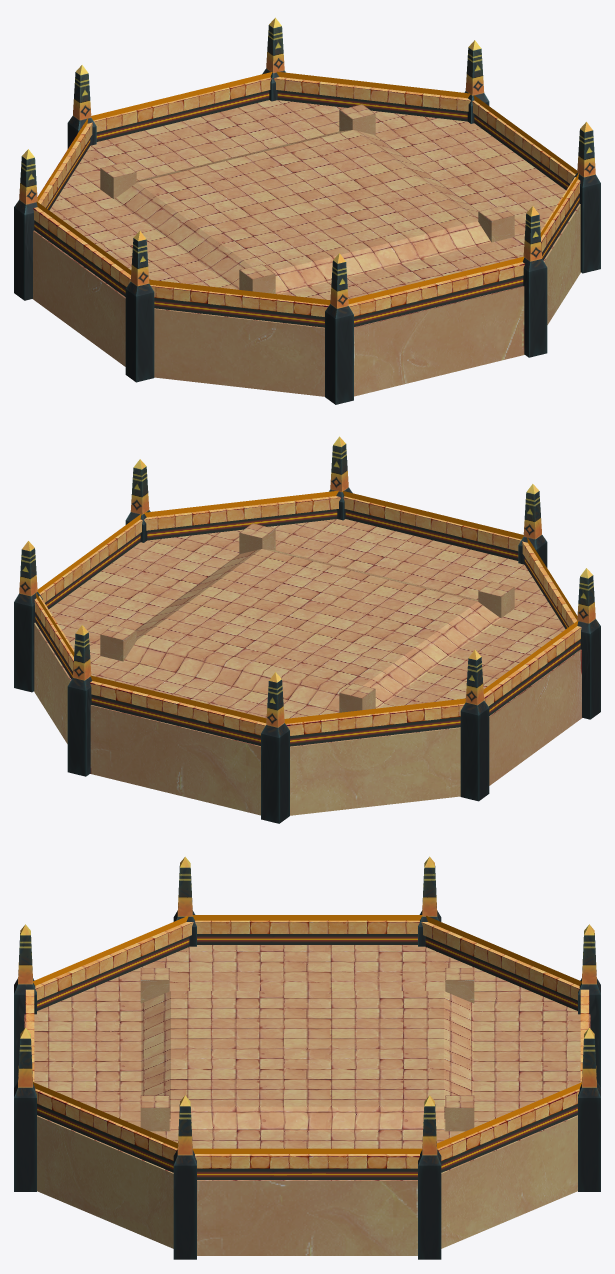
File: Battle_Stage 27.fbx
3 renders of one model, top to bottom at view 1: azimuth 30°, elevation 25°; view 2: azimuth 150°, elevation 25°; view 3: azimuth 270°, elevation 25°, orthographic. The views are drawn at different scales.
Visible parts, largest first — view 1: HexaGround, CR_Platform_Cube.038, Plane.169; view 2: HexaGround, CR_Platform_Cube.038, Plane.169; view 3: HexaGround, CR_Platform_Cube.038, Plane.169.
Part boxes in pixels (box(x1,y1,x2,y2)): HexaGround: box(33, 100, 580, 396); CR_Platform_Cube.038: box(14, 17, 600, 404); Plane.169: box(36, 71, 578, 304); HexaGround: box(34, 519, 582, 815); CR_Platform_Cube.038: box(14, 436, 600, 823); Plane.169: box(35, 490, 578, 723); HexaGround: box(24, 945, 590, 1255); CR_Platform_Cube.038: box(14, 856, 600, 1259); Plane.169: box(33, 915, 581, 1153).
Size of the model in its own units: 7097 by 2229 by 7087.
